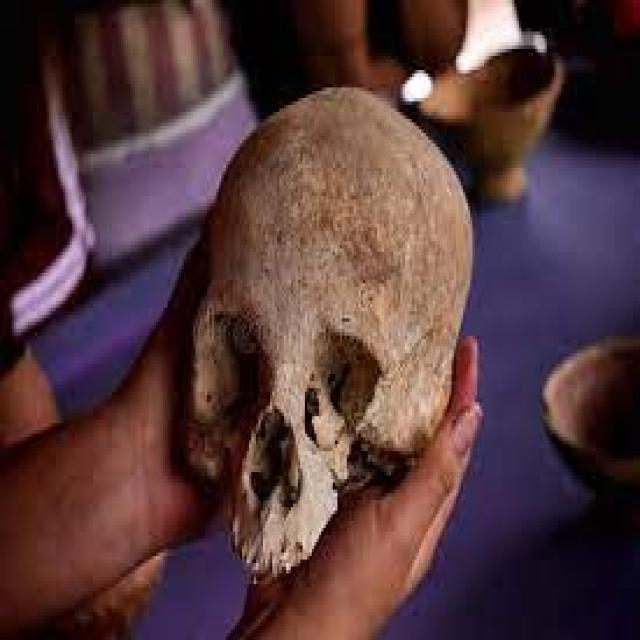skull: (178, 77, 483, 572)
